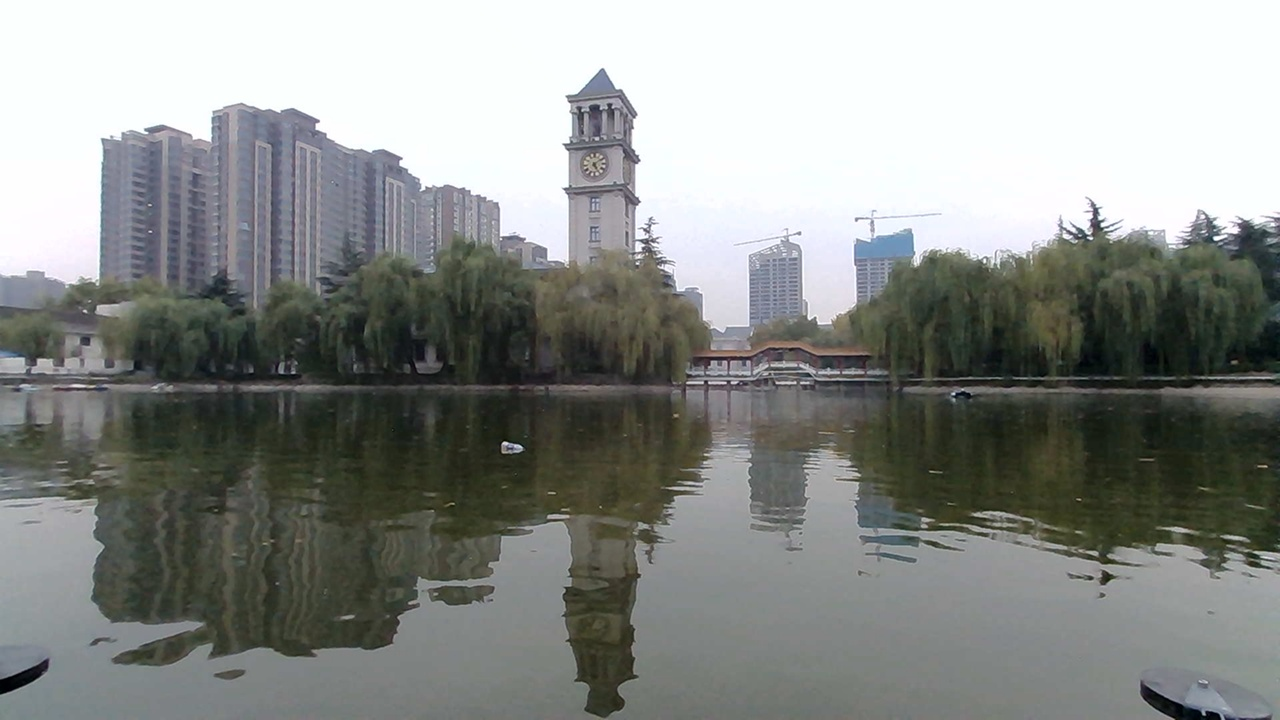bottle: (490, 429, 542, 467)
